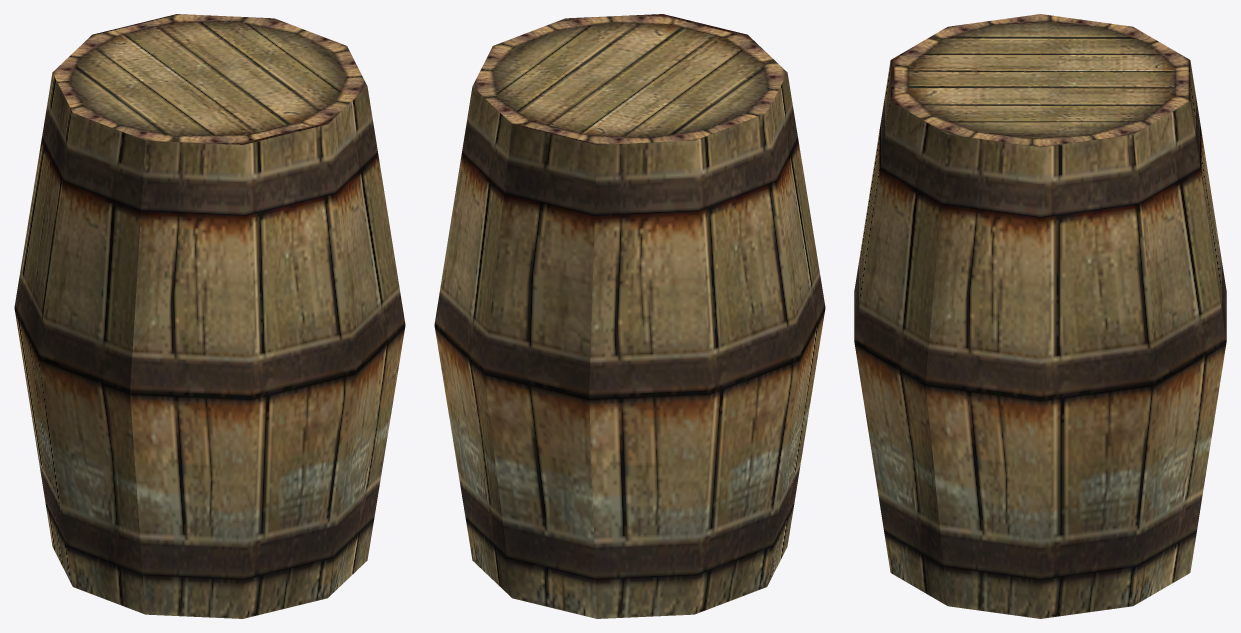
The model's file is Barl01.glb.
3 views of the same model, side by side, from view 1: azimuth 30°, elevation 25°; view 2: azimuth 150°, elevation 25°; view 3: azimuth 270°, elevation 25° (orthographic).
Visible parts, largest first — view 1: _Barl01; view 2: _Barl01; view 3: _Barl01.
Part boxes in pixels (box(x1,y1,x2,y2)): _Barl01: box(14, 14, 405, 618); _Barl01: box(434, 14, 825, 618); _Barl01: box(854, 14, 1226, 618).
Size of the model in its own units: 1.11 by 1.47 by 1.05.
1 material, 1 textured.
